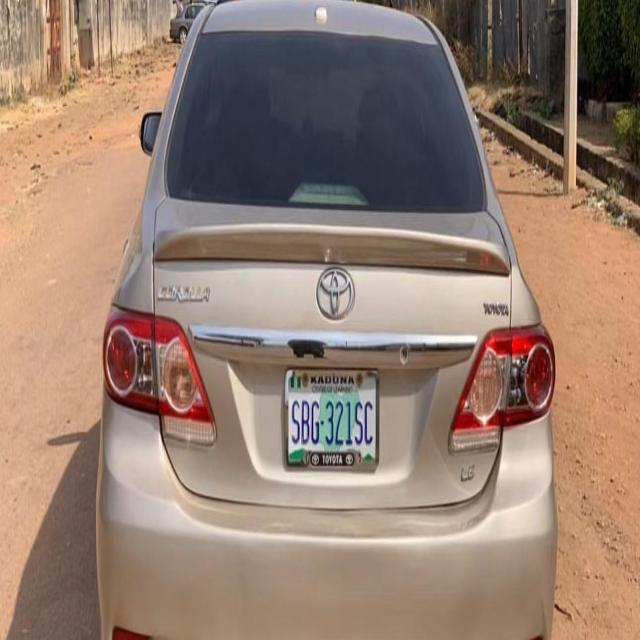Nigerian License Plate - vdataset benjamin-daria: (284, 368, 381, 472)
